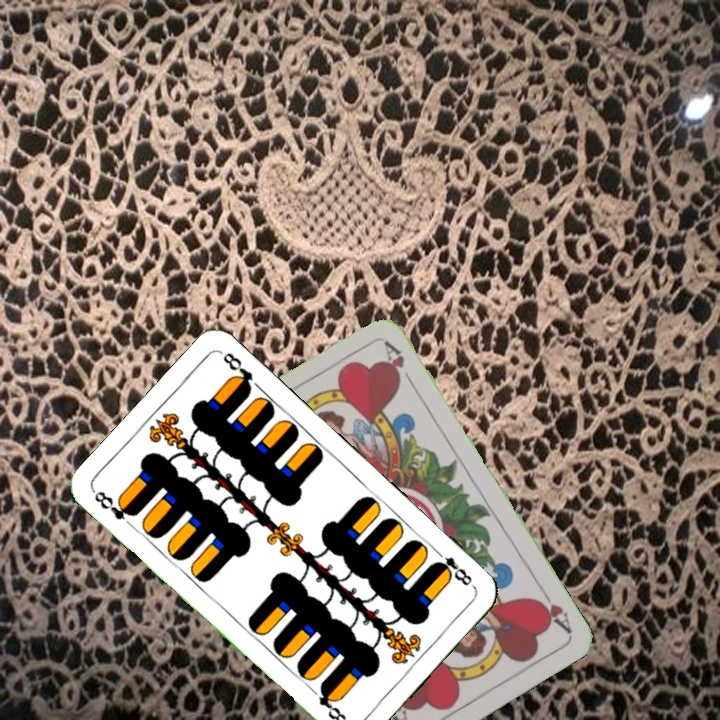E8: (429, 545, 477, 591), (89, 487, 140, 523)
HA: (531, 582, 574, 636)
